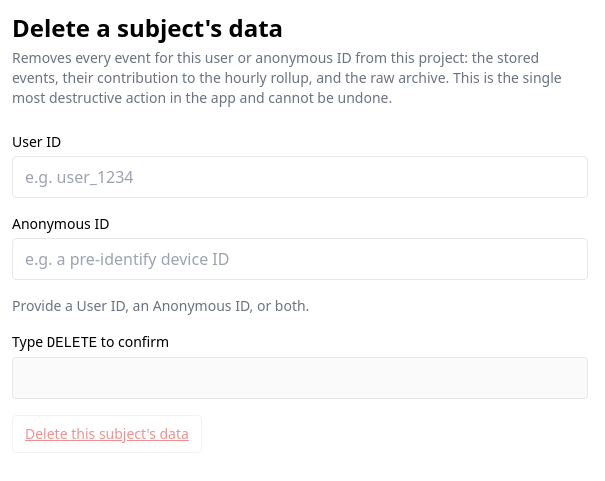
Test: SubjectDeletion › shows the mutation's error message on failure
The image size is (605, 481).
Type "user-1" into the field labelled "User ID" at (300, 177), box [12, 156, 588, 198]
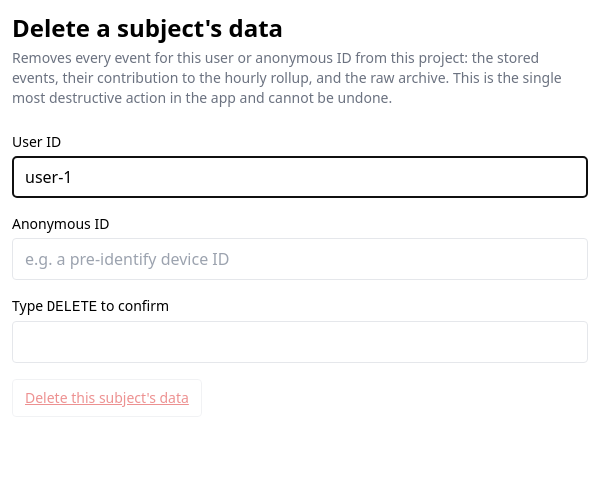
Type "DELETE" into the field labelled "Type DELETE to confirm" at (300, 342), box [12, 321, 588, 363]
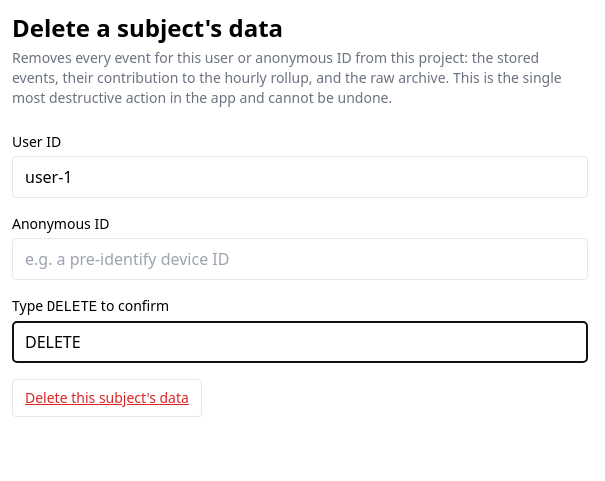
Click the button "Delete this subject's data" at (107, 398), box [12, 379, 202, 417]
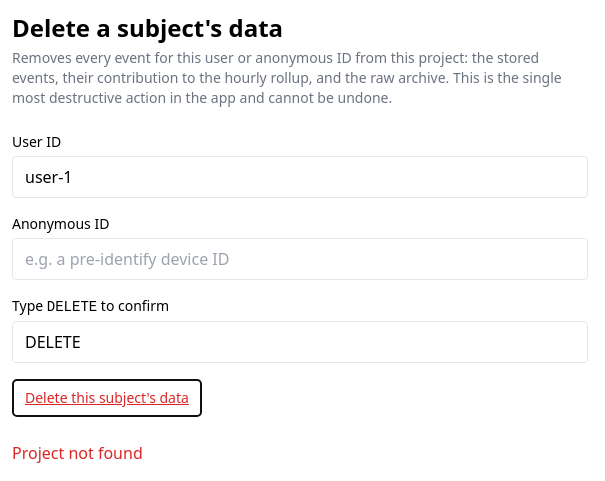
expect the text "Project not found" is shown: met, box [12, 442, 143, 464]
